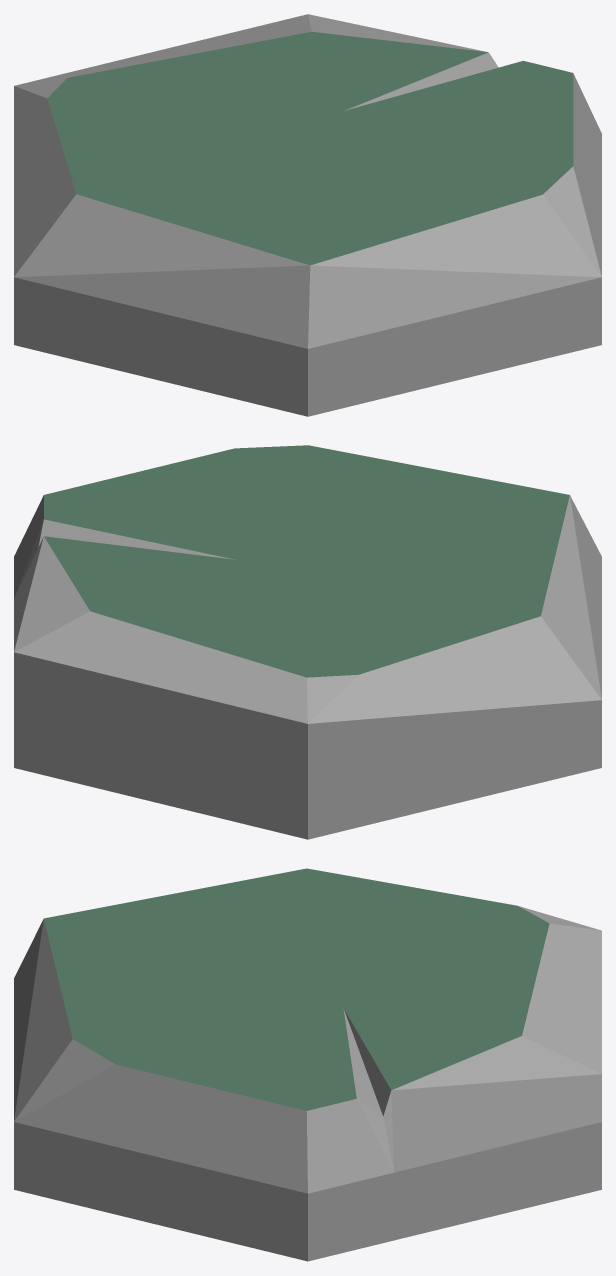
File: Hex02.fbx
3 views of the same model, one above another, from view 1: azimuth 30°, elevation 25°; view 2: azimuth 150°, elevation 25°; view 3: azimuth 270°, elevation 25° (orthographic).
Parts seen in each view (by area): view 1: Hex02; view 2: Hex02; view 3: Hex02.
Part boxes in pixels (x1=…): Hex02: x1=14, y1=14, x2=601, y2=416; Hex02: x1=14, y1=445, x2=601, y2=839; Hex02: x1=14, y1=868, x2=601, y2=1261.
Size of the model in its own units: 1.67 by 0.3694 by 1.44.
